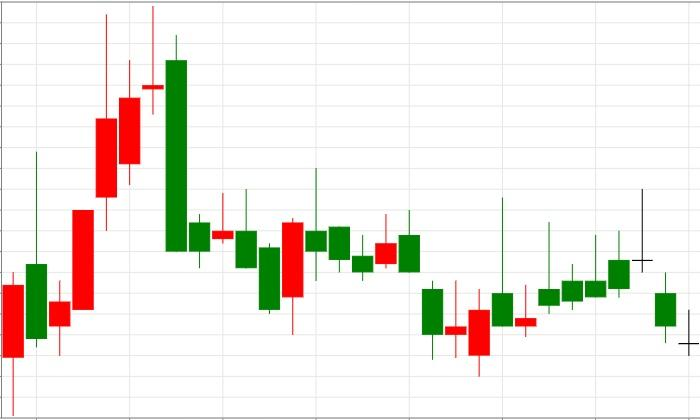bullish_engulfing_rise: (143, 6, 304, 336)
